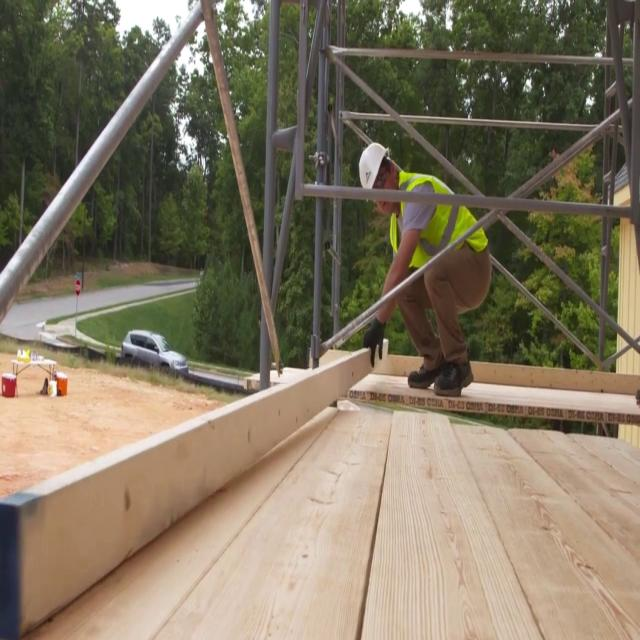Hard_hat: (353, 134, 393, 196)
Safety_boots: (434, 359, 474, 397), (410, 359, 438, 397)
Vest: (390, 172, 490, 273)
